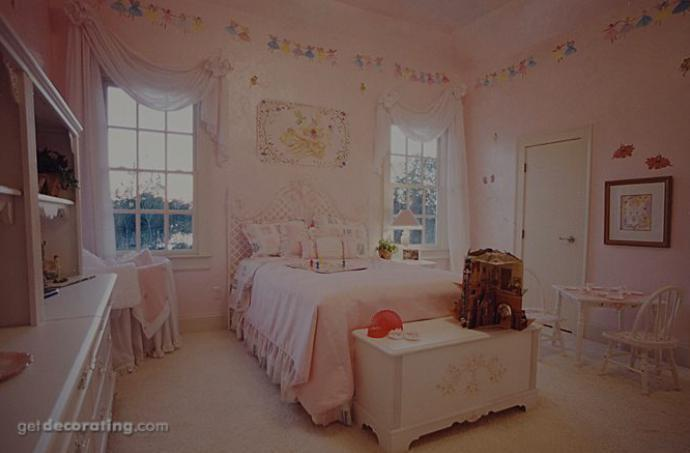Puerta: (519, 142, 582, 336)
